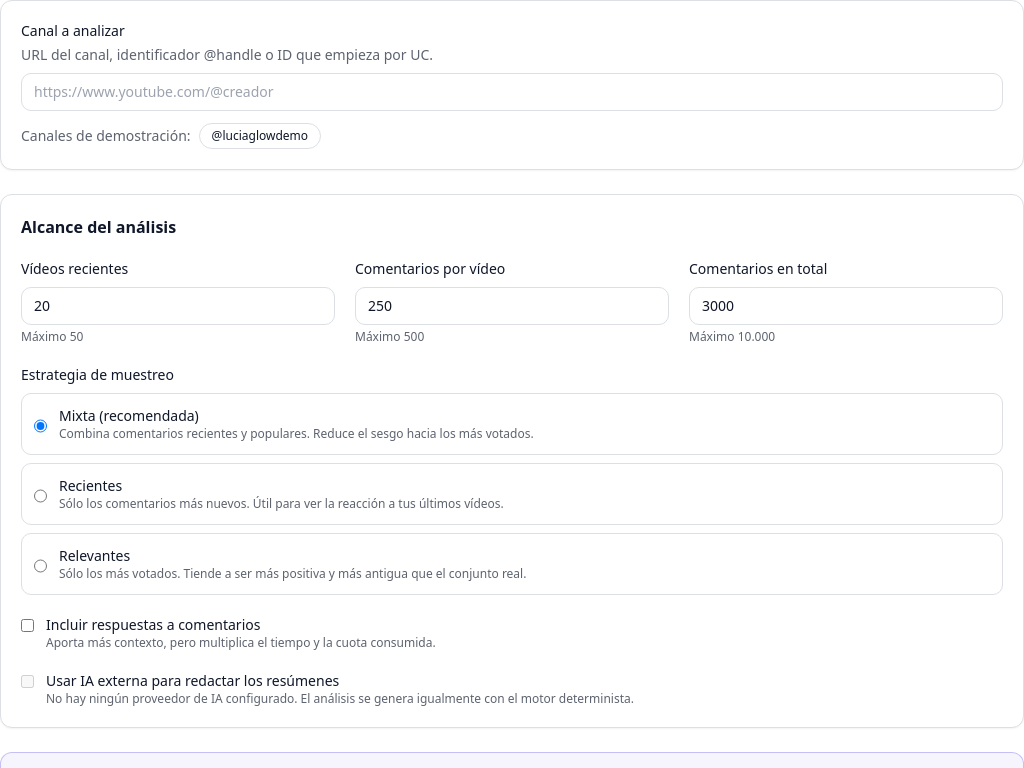
Test: Formulario de análisis › muestra un error de validación cuando la referencia es inválida
Type "https://vimeo.com/algo" into the field labelled "Canal a analizar" at [512, 92], box [21,73,1003,111]
(page scrolled)
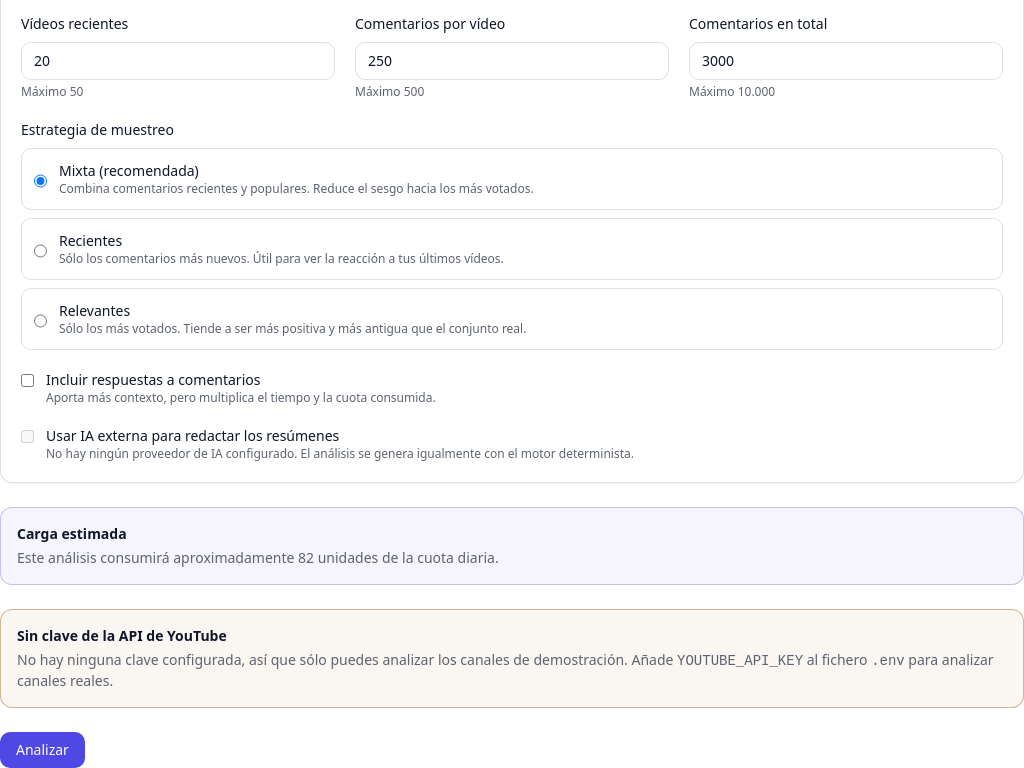
Click the button "Analizar" at [42, 750], box [0,732,85,767]
(page scrolled)
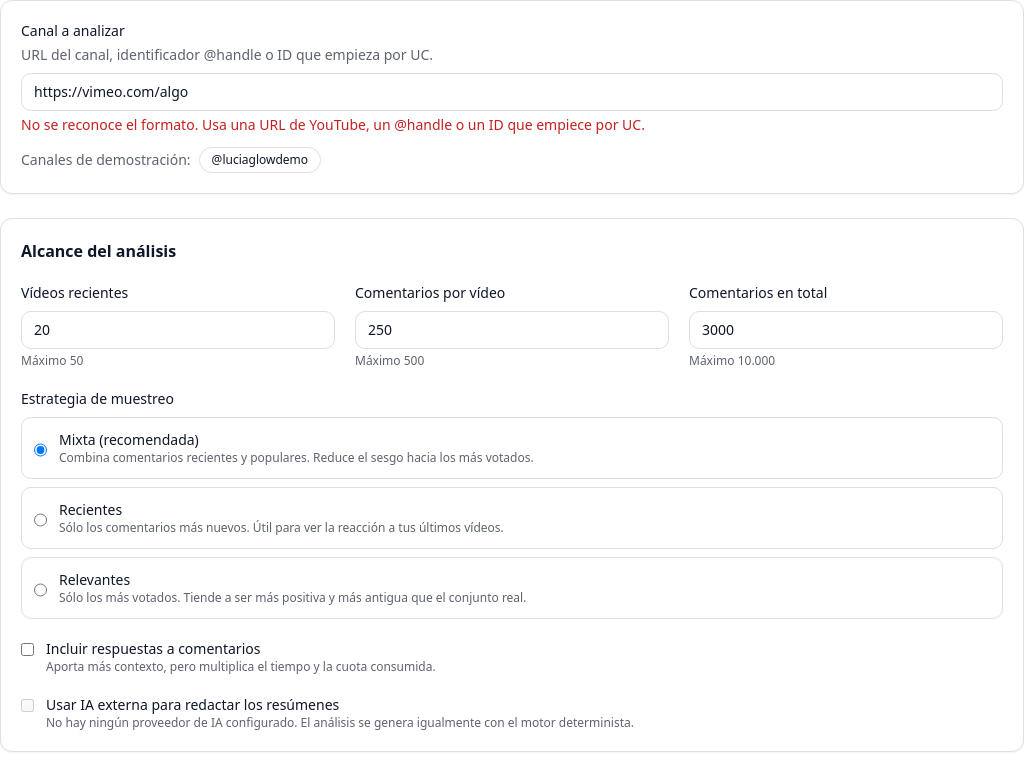
Check: the message shows "formato", box [21,115,645,134]
